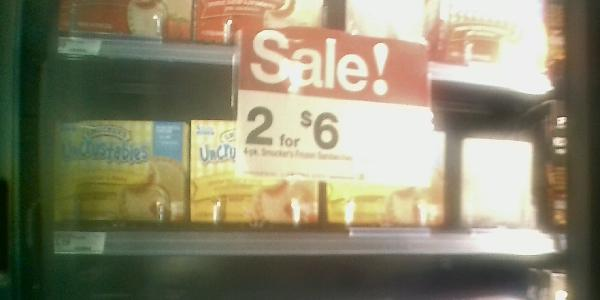icecream: (193, 107, 323, 243), (49, 112, 194, 230), (318, 111, 448, 238)
